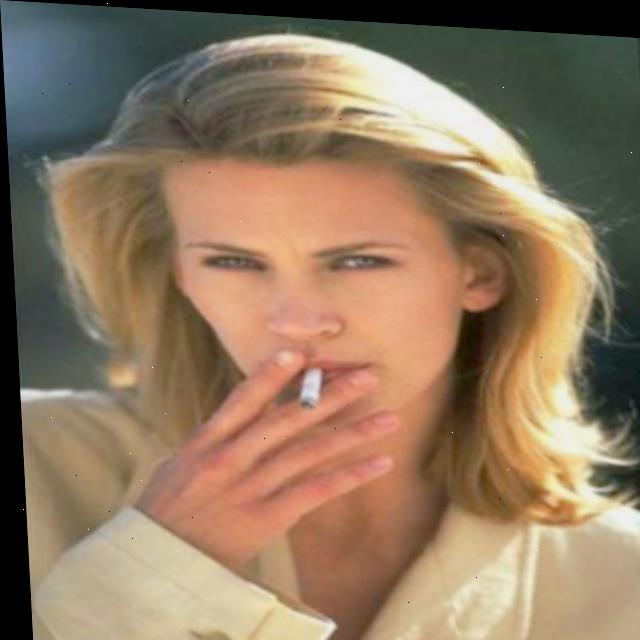cigarette: (296, 364, 324, 406)
